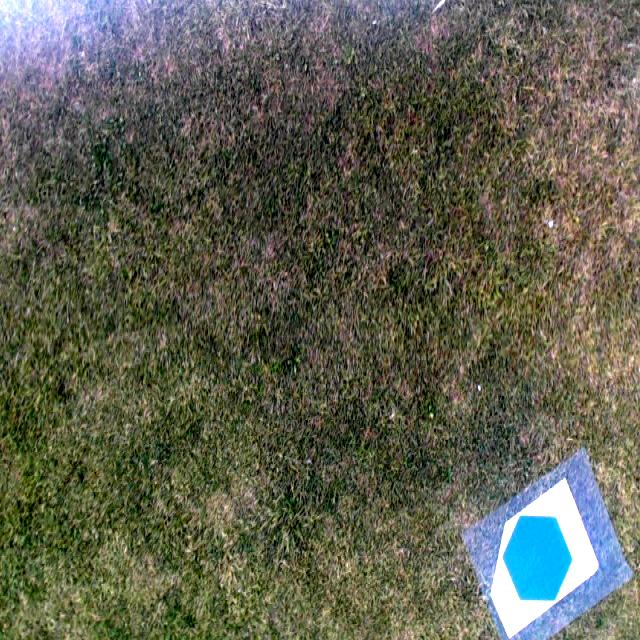blue_hexagon: (502, 514, 573, 602)
